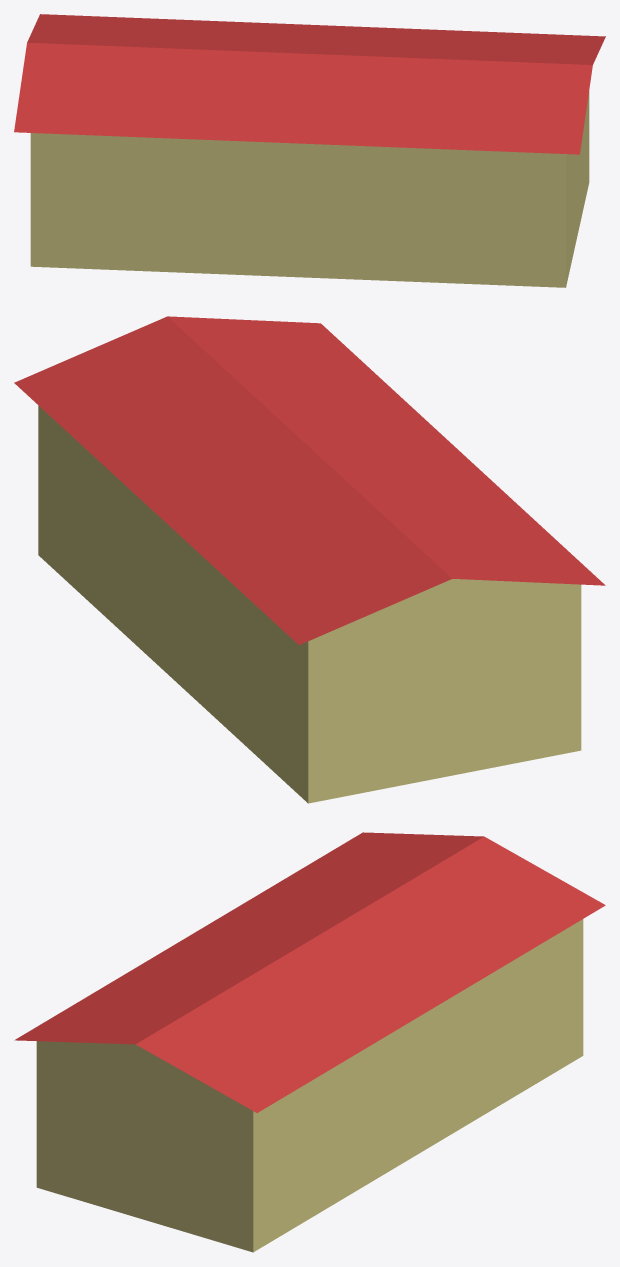
3 renders of one model, top to bottom at view 1: azimuth 30°, elevation 25°; view 2: azimuth 150°, elevation 25°; view 3: azimuth 270°, elevation 25°, orthographic. The views are drawn at different scales.
Bounding box in the file's own units: 30.56 × 27.23 × 9.2.
